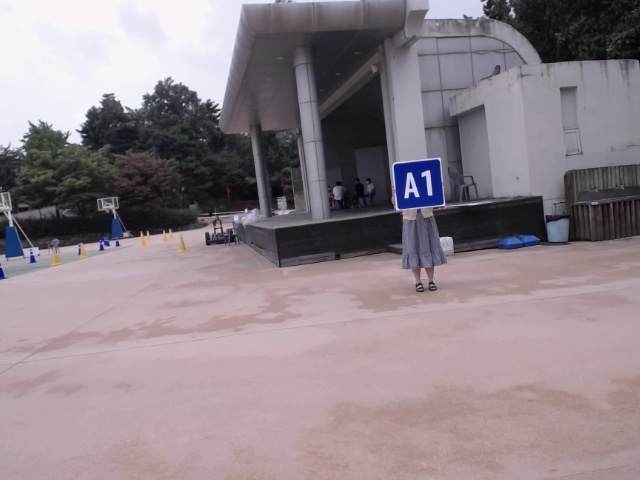delivery_a1: (393, 159, 445, 210)
